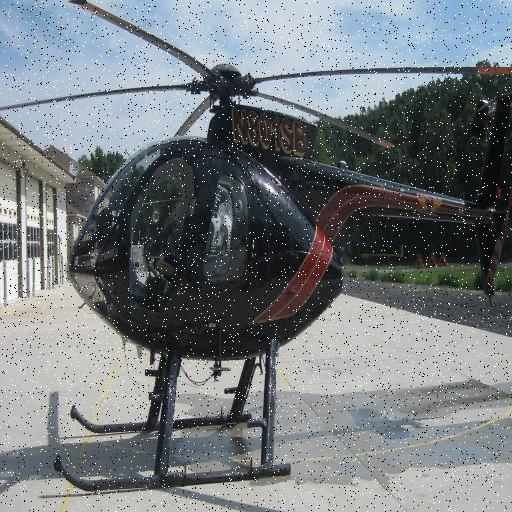helicopter: (6, 1, 512, 500)
